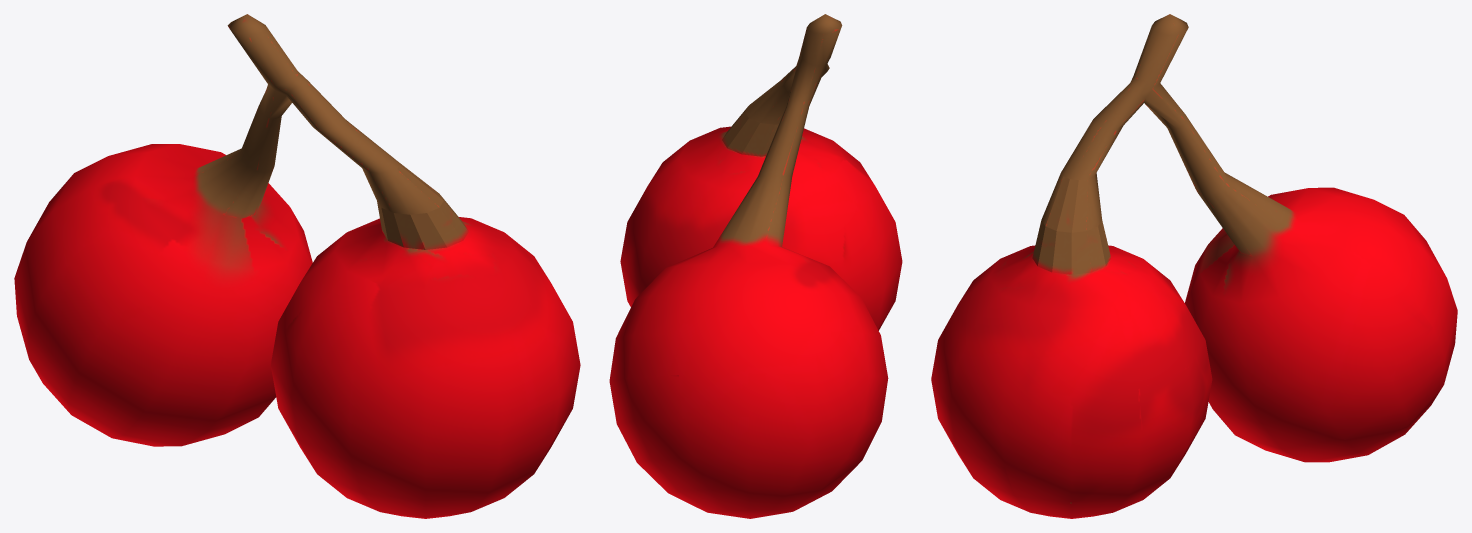
Rendered from Cherry1obj.obj.
3 views of the same model, side by side, from view 1: azimuth 30°, elevation 25°; view 2: azimuth 150°, elevation 25°; view 3: azimuth 270°, elevation 25° (orthographic). The views are drawn at different scales.
Parts seen in each view (by area): view 1: Mesh_Mesh_polySurface1; view 2: Mesh_Mesh_polySurface1; view 3: Mesh_Mesh_polySurface1.
Boxes of the visible parts, x1,y1,x2,y2 form: Mesh_Mesh_polySurface1: (14,14,580,518); Mesh_Mesh_polySurface1: (609,14,902,518); Mesh_Mesh_polySurface1: (931,14,1457,518).
Bounding box in the file's own units: 15.85 × 18.78 × 20.48.
Materials: 1 (1 with a texture image).
